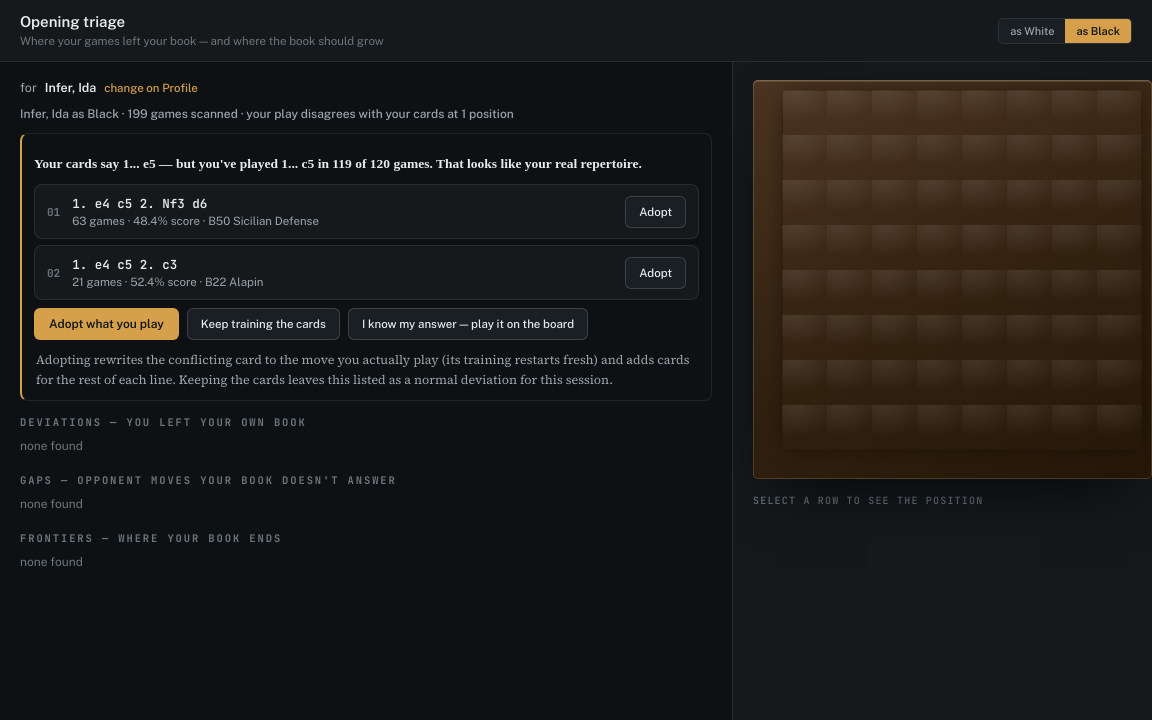
Test case: TriageView — reality-check deviation panel › 'Keep training the cards' dismisses the panel and lists the deviation normally
Click the button "Keep training the cards".
click(263, 324)  # box top-left (187, 308), bottom-right (340, 340)
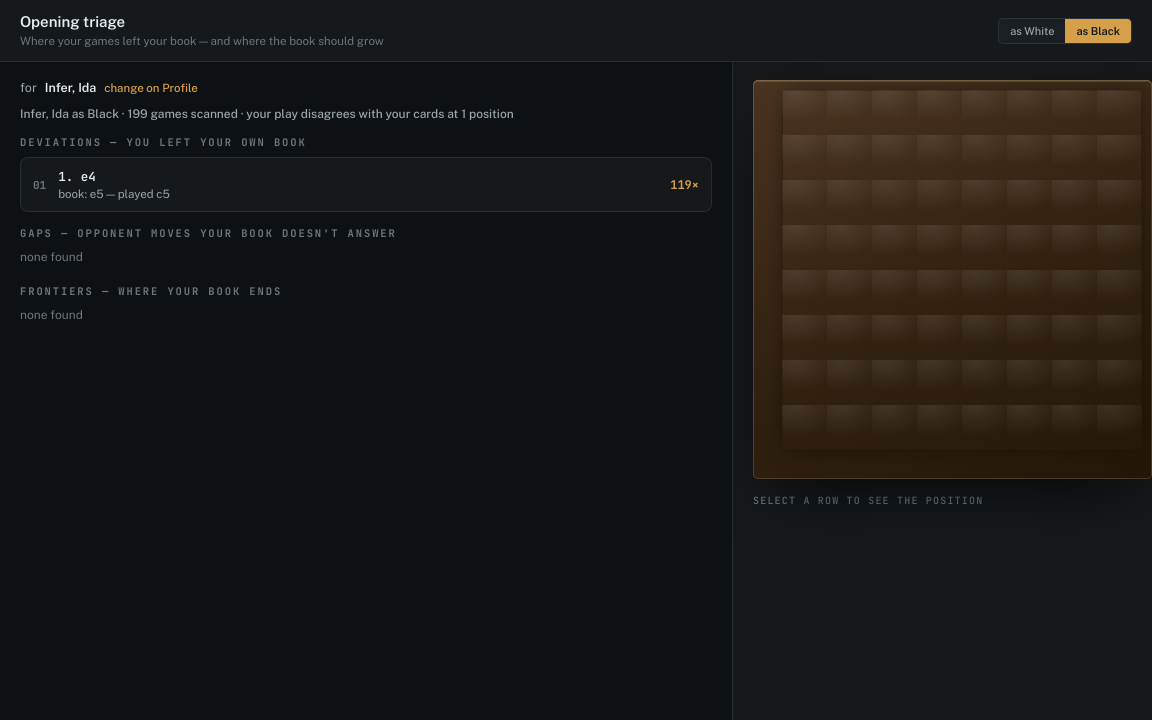
Expected: the text "Your cards say 1... e5" is gone
Expected: the text "book: e5 — played c5" is shown, top-left (58, 187), bottom-right (170, 201)
